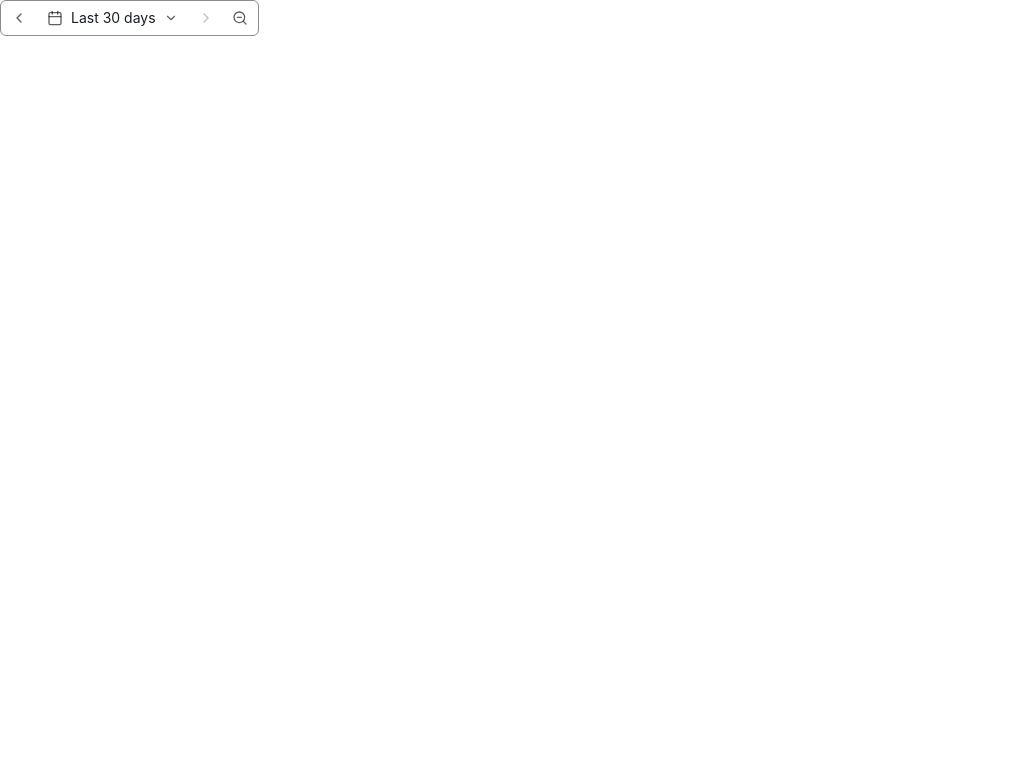
it: TimeRangePicker › picks a quick range, marks the active one and returns focus
Click the button "Last 30 days".
click(112, 18)  # box [37,2,188,34]
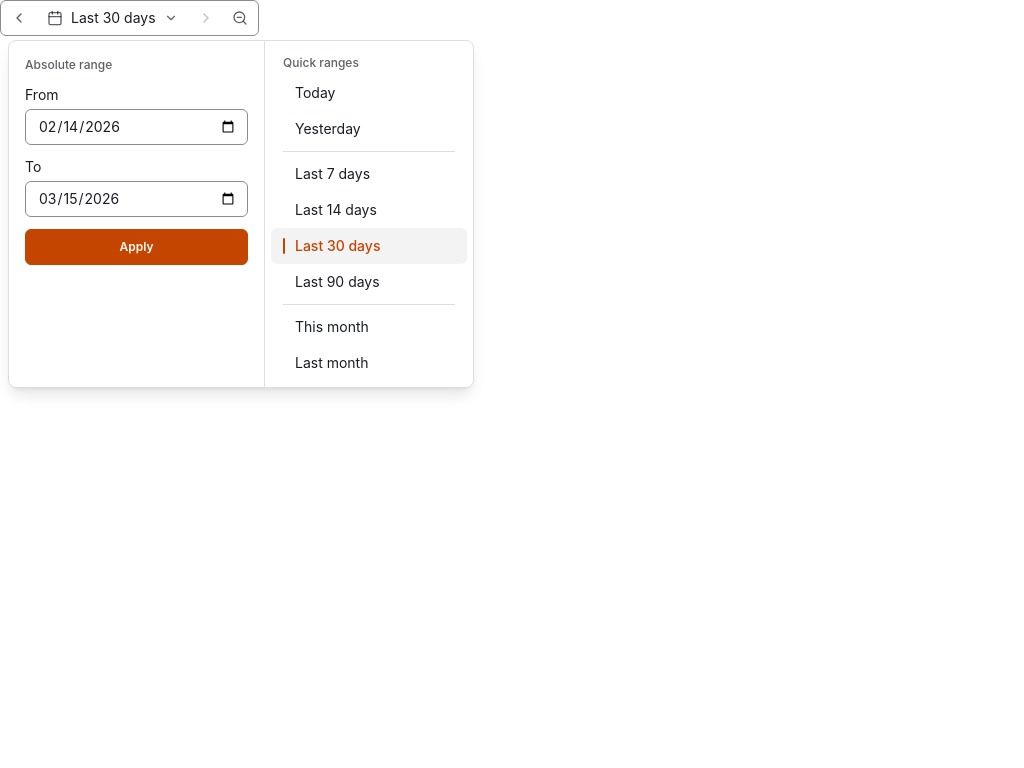
Result: the button "Last 30 days" below "Quick ranges" is shown at [271,228,467,264]
Click the button "Last 14 days".
click(369, 210)  # box [271,192,467,228]
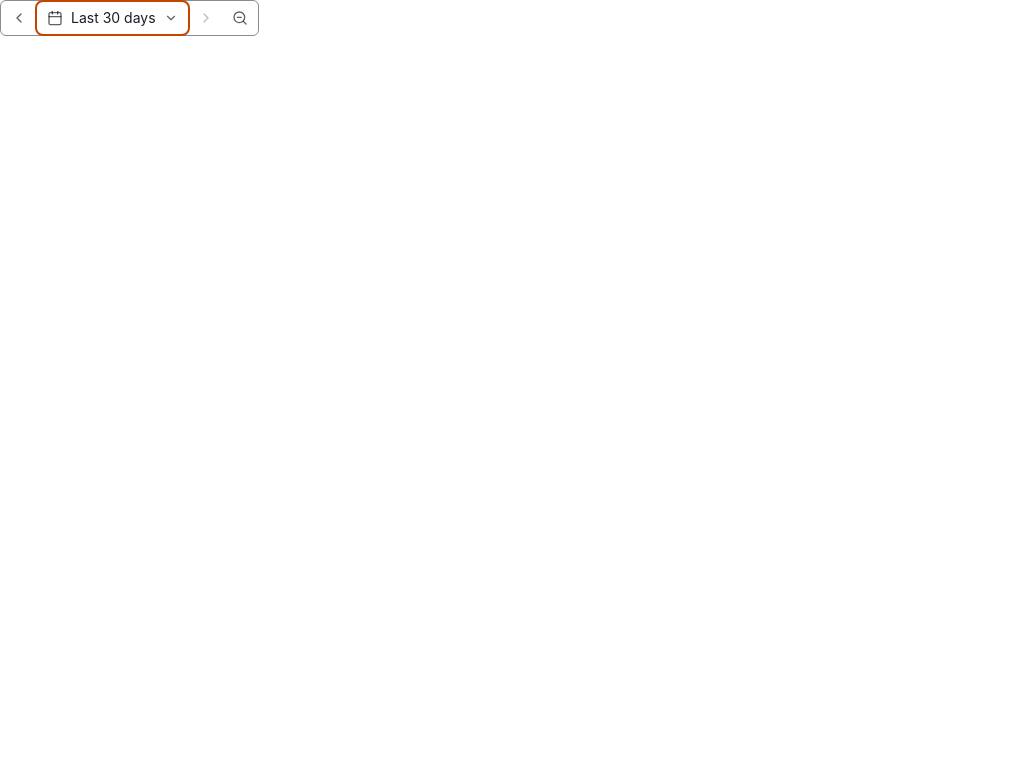
Result: the dialog is gone
